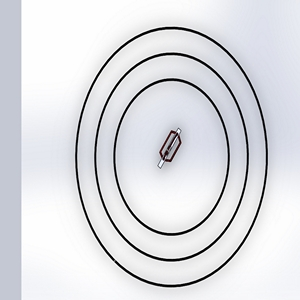circle: (63, 15, 282, 290)
submarine: (150, 125, 192, 171)
